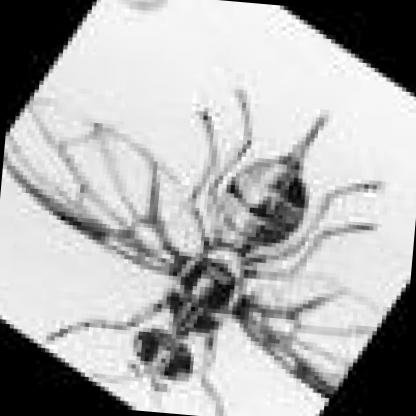fruit fly: (12, 89, 382, 401)
